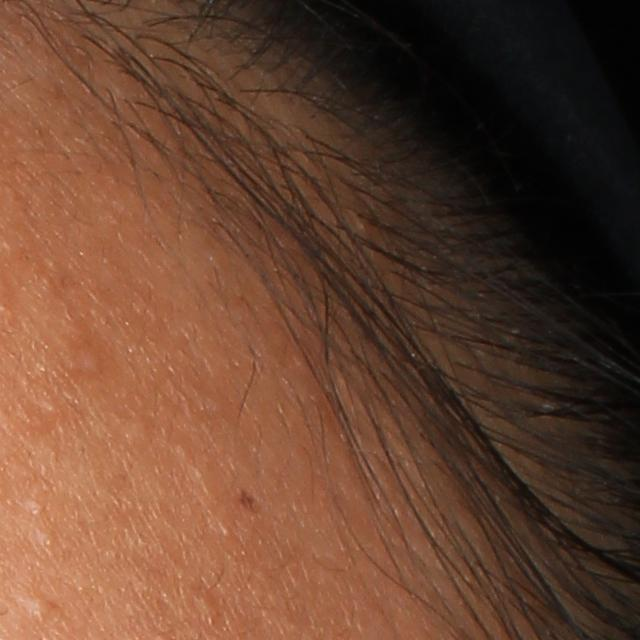comedo: (20, 594, 51, 620), (194, 592, 217, 621), (36, 530, 58, 551), (23, 497, 45, 516)
nevus: (238, 487, 261, 512)
